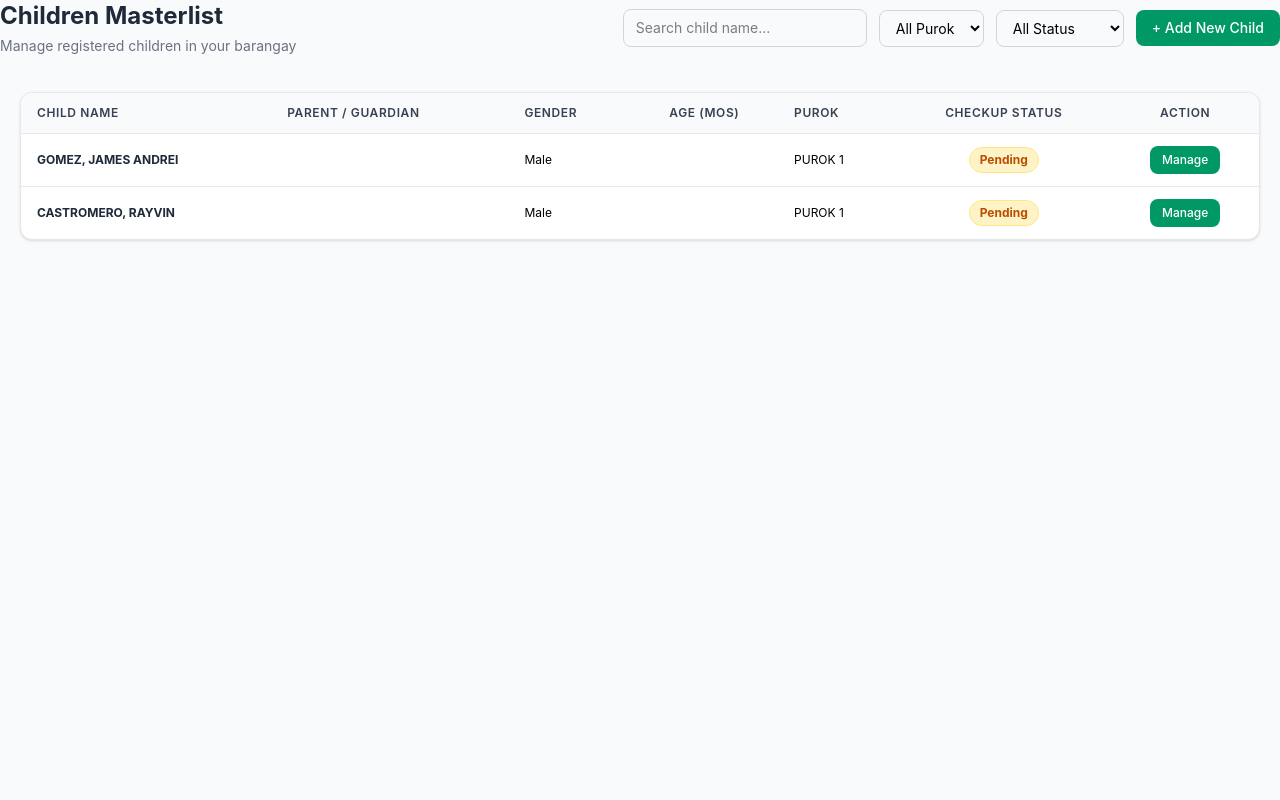
Test: Masterlist Integration › should smoothly toggle the modal open and closed from the header actions
The image size is (1280, 800).
Expected: the heading "register new child" is not shown
Click the button "+ Add New Child" at [1208, 28], box [1136, 10, 1279, 46]
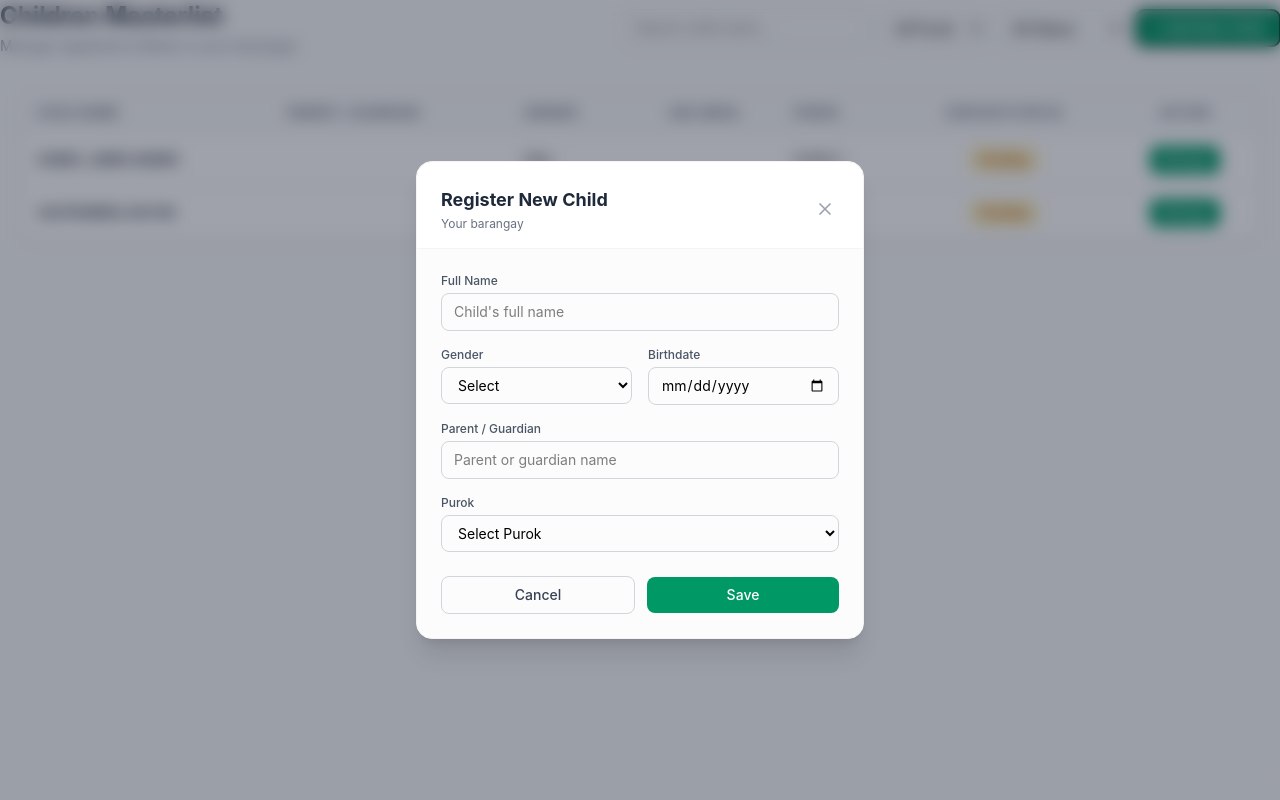
Expected: the heading "Register New Child" is shown, [441, 186, 608, 214]
Click the button "Cancel" at [538, 595], box [441, 576, 635, 614]
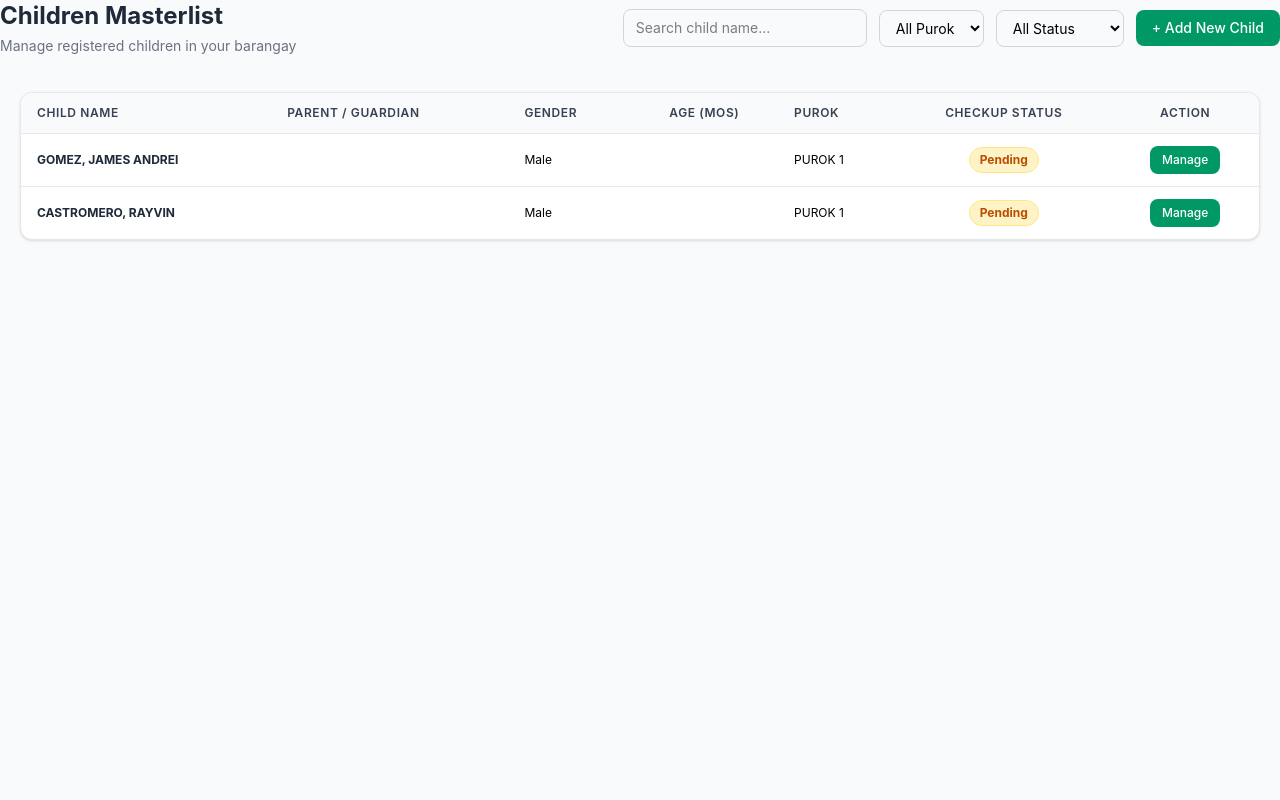
Expected: the heading "Register New Child" is gone
